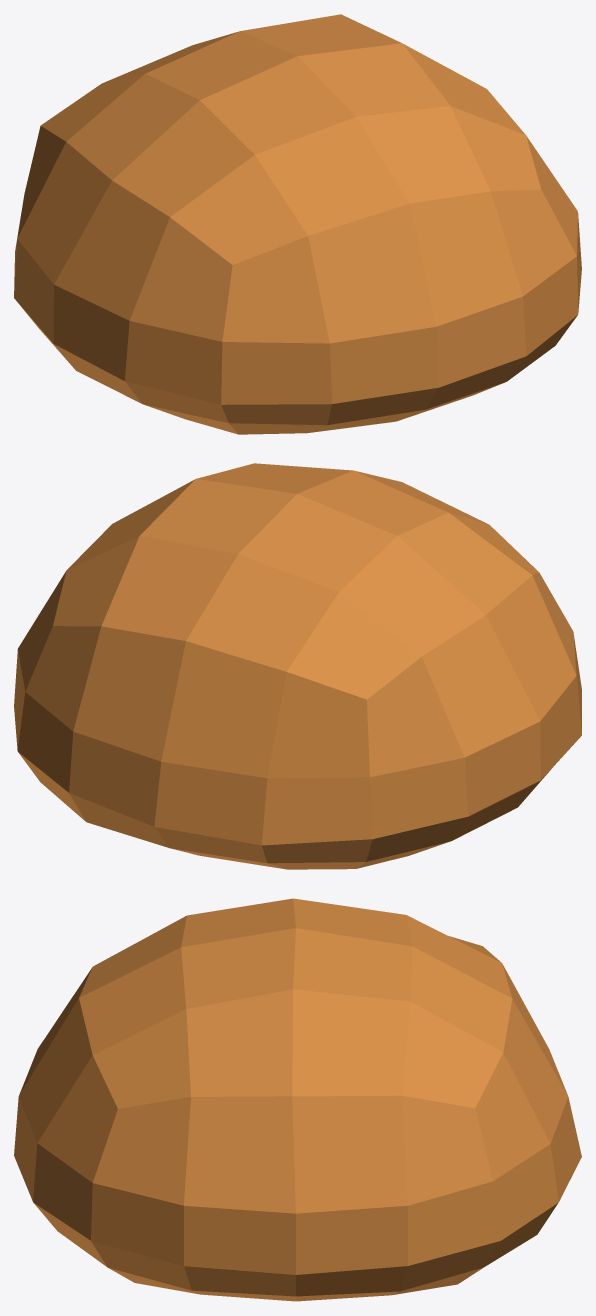
Rendered from Bun.fbx.
3 renders of one model, top to bottom at view 1: azimuth 30°, elevation 25°; view 2: azimuth 150°, elevation 25°; view 3: azimuth 270°, elevation 25°, orthographic.
Parts seen in each view (by area): view 1: Bun; view 2: Bun; view 3: Bun.
Part boxes in pixels (x1,y1,x2,y2): Bun: (14,14,581,434); Bun: (14,463,581,869); Bun: (14,898,581,1301).
Size of the model in its own units: 175 by 104 by 177.
